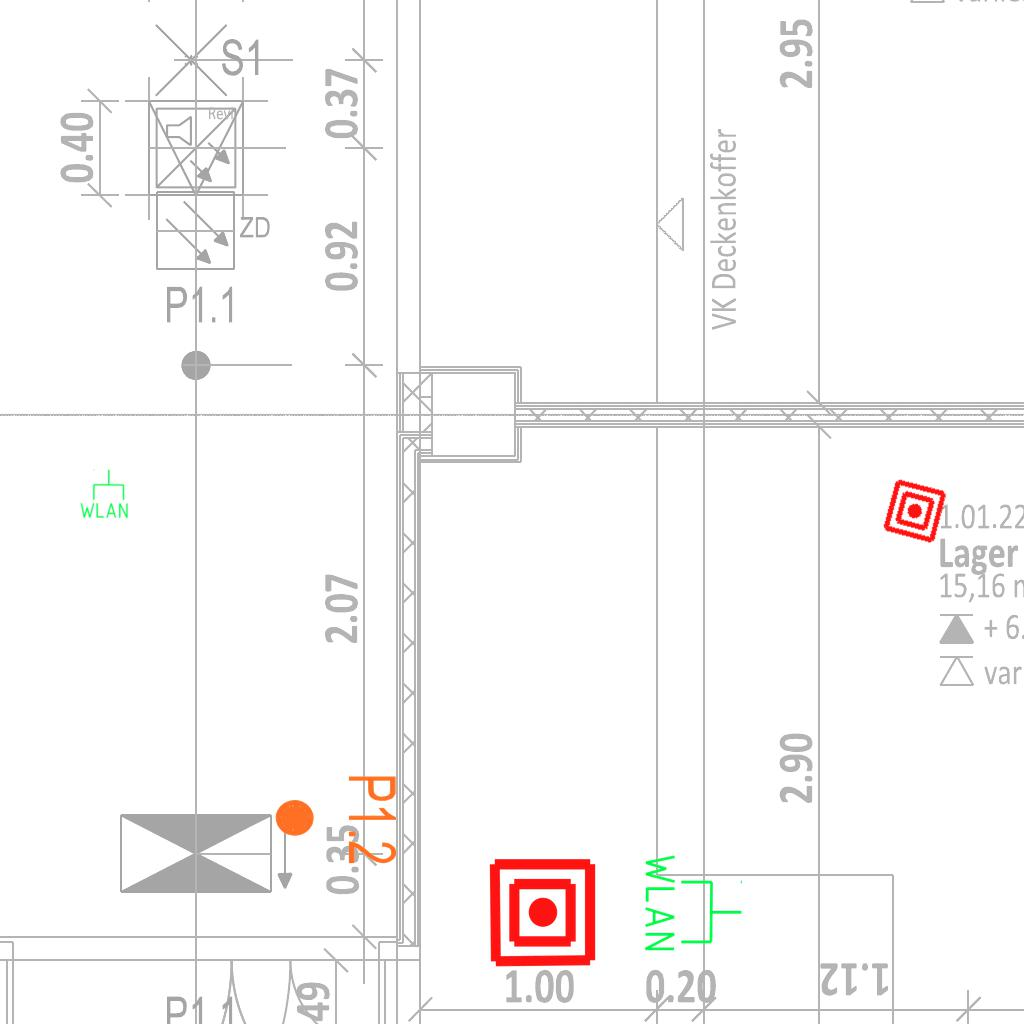Downlight_LED_Einbauleuchten_Flur: (272, 773, 400, 866)
NAM-Nichtautomatischer_Melder: (486, 856, 599, 969), (880, 476, 950, 546)
WLAN: (641, 850, 745, 955), (78, 468, 130, 520)
